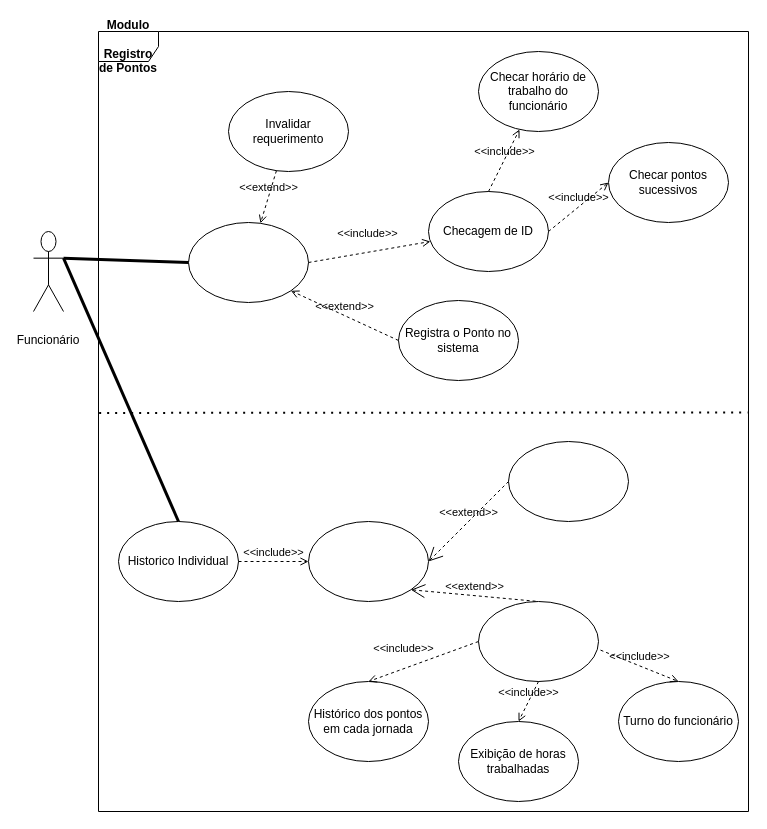
Image size: 767x829. Some labels were removed from this diagram. Each missing label, with the box of its shape:
Actor: (32, 230, 64, 312)
Checagem de identificação e acesso: (308, 520, 428, 602)
Histórico de Jornadas: (478, 600, 598, 682)
Negar permissão: (508, 440, 628, 522)
Requisitar o Ponto: (188, 222, 308, 302)
